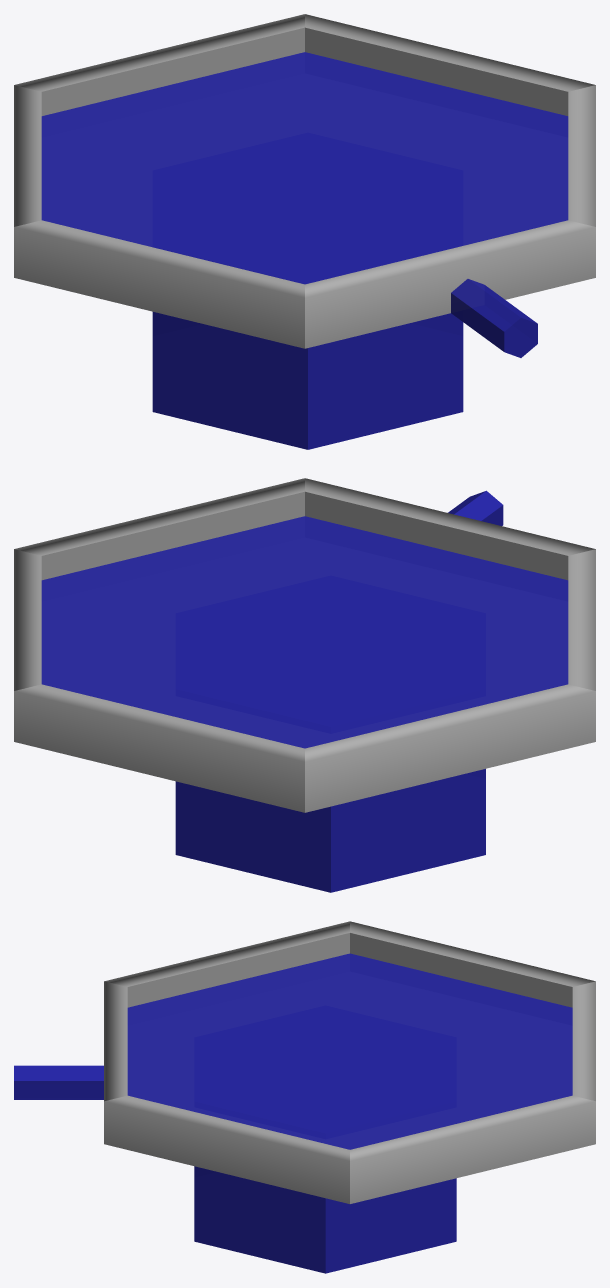
The model's file is PoolIndigo.fbx.
3 views of the same model, one above another, from view 1: azimuth 30°, elevation 25°; view 2: azimuth 150°, elevation 25°; view 3: azimuth 270°, elevation 25° (orthographic). The views are drawn at different scales.
Parts seen in each view (by area): view 1: PoolIndigoWater, PoolIndigo, indigoStand, IndigoOutPipe; view 2: PoolIndigoWater, PoolIndigo, indigoStand, IndigoOutPipe; view 3: PoolIndigoWater, PoolIndigo, indigoStand, IndigoOutPipe.
Part boxes in pixels (x1=…): PoolIndigoWater: x1=41, y1=52, x2=568, y2=284; PoolIndigo: x1=14, y1=14, x2=595, y2=348; indigoStand: x1=152, y1=312, x2=463, y2=449; IndigoOutPipe: x1=451, y1=279, x2=537, y2=357; PoolIndigoWater: x1=41, y1=516, x2=568, y2=748; PoolIndigo: x1=14, y1=478, x2=595, y2=812; indigoStand: x1=175, y1=769, x2=485, y2=892; IndigoOutPipe: x1=448, y1=490, x2=503, y2=525; PoolIndigoWater: x1=127, y1=953, x2=572, y2=1149; PoolIndigo: x1=104, y1=921, x2=595, y2=1203; indigoStand: x1=194, y1=1166, x2=456, y2=1273; IndigoOutPipe: x1=14, y1=1065, x2=103, y2=1099.
Bounding box in the file's own units: 0.06 × 0.0202 × 0.0615.
